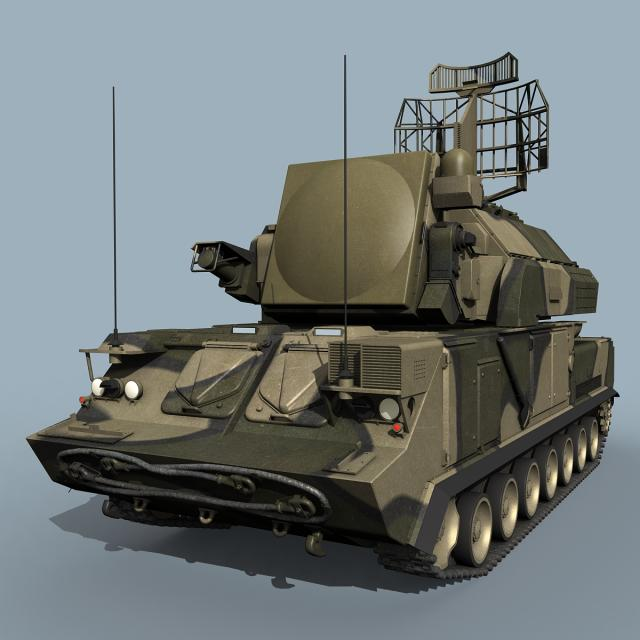MIL_EW_RDR: (42, 30, 612, 601)
